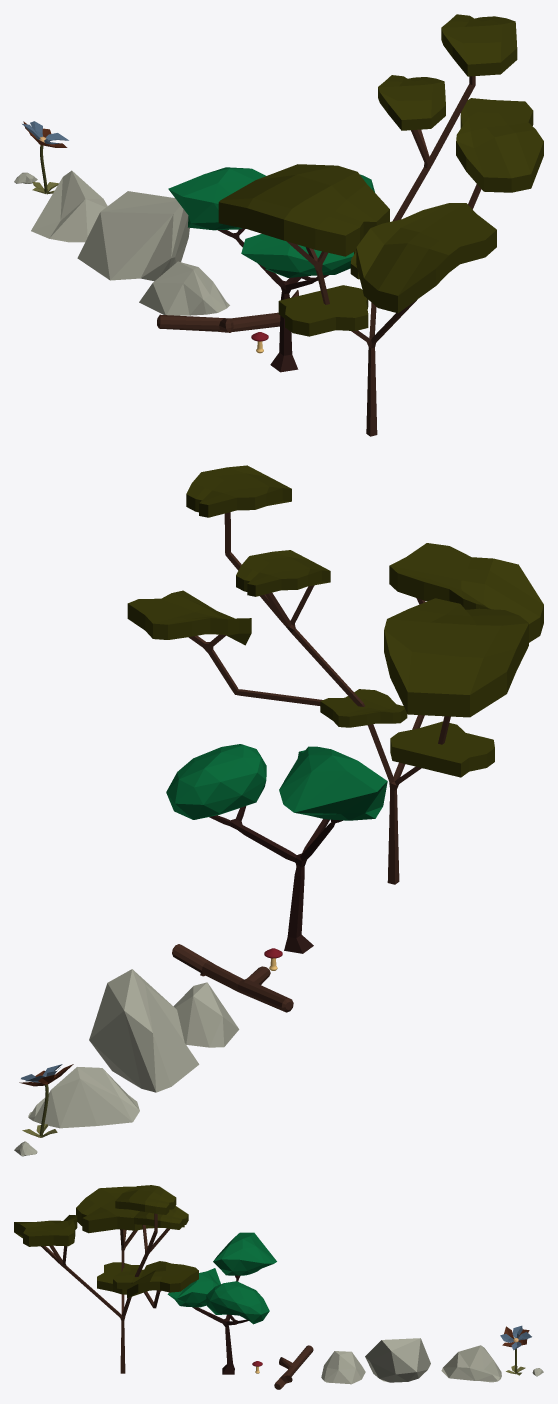
The model's file is AllIn1.fbx.
The picture shows the model from 3 angles, top to bottom: view 1: azimuth 30°, elevation 25°; view 2: azimuth 150°, elevation 25°; view 3: azimuth 270°, elevation 25°; orthographic projection. The views are drawn at different scales.
Visible parts, largest first — view 1: tree2, rockl2, tree1, rock3, rock1, stick, flower; view 2: tree2, tree1, rockl2, rock3, rock1, stick, flower; view 3: tree2, tree1, rockl2, rock3, rock1, flower, stick.
Part boxes in pixels (<box>): tree2: <box>218,14,543,436</box>; rockl2: <box>77,191,189,281</box>; tree1: <box>168,167,374,372</box>; rock3: <box>31,170,107,242</box>; rock1: <box>139,261,229,315</box>; stick: <box>157,290,298,332</box>; flower: <box>22,121,68,194</box>; tree2: <box>127,465,543,884</box>; tree1: <box>166,744,387,953</box>; rockl2: <box>89,969,199,1092</box>; rock3: <box>28,1067,139,1128</box>; rock1: <box>173,982,239,1047</box>; stick: <box>172,944,293,1012</box>; flower: <box>19,1064,73,1137</box>; tree2: <box>14,1185,198,1373</box>; tree1: <box>167,1232,276,1374</box>; rockl2: <box>365,1338,430,1382</box>; rock3: <box>441,1345,501,1382</box>; rock1: <box>321,1351,365,1384</box>; flower: <box>500,1325,531,1375</box>; stick: <box>274,1345,313,1389</box>.
Size of the model in its own units: 1583 by 1664 by 3656.
